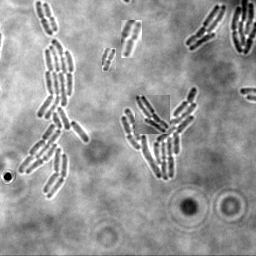Dividing: (121, 20, 142, 58), (34, 1, 52, 37), (41, 3, 57, 33), (102, 48, 116, 72)
Microcolony: (18, 40, 89, 199), (120, 87, 197, 181), (184, 5, 226, 52), (230, 1, 255, 56), (135, 95, 170, 134)
